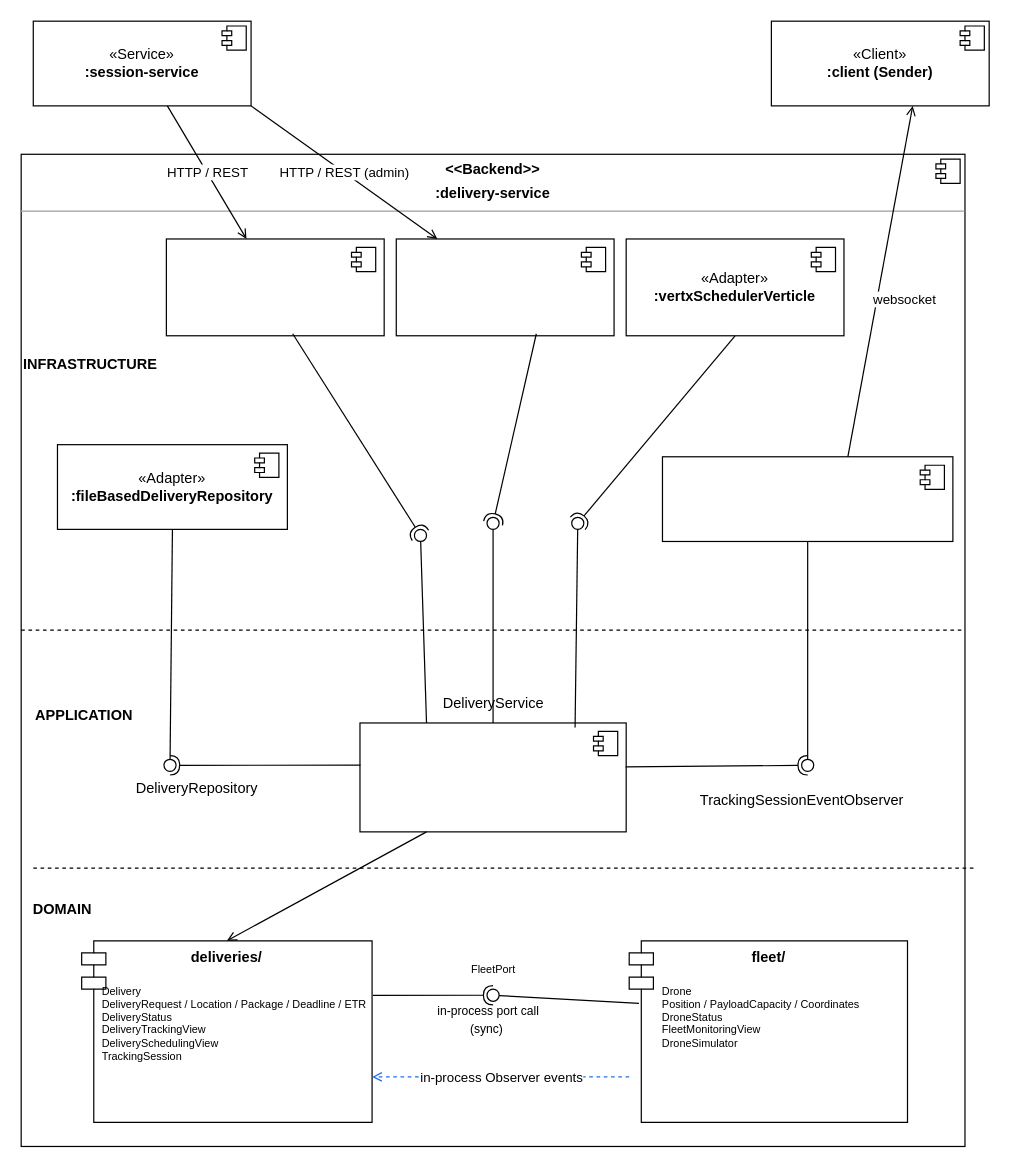
This 1010x1168 diagram has some shape labels left out. Here are the shapes that lost their labels. From the top down, the box of each, then its label:
(165, 238, 384, 336): «Adapter» :deliveryServiceController
(395, 238, 614, 336): «Adapter» :fleetMonitoringController
(661, 456, 953, 541): «Adapter» :vertxTrackingSessionEventObserver
(359, 722, 626, 832): «Application» :deliveryServiceImpl
